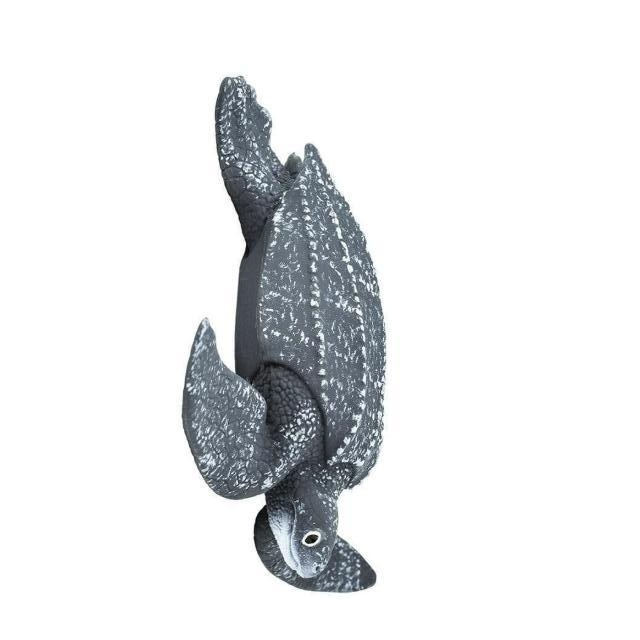turtle: (181, 73, 387, 595)
